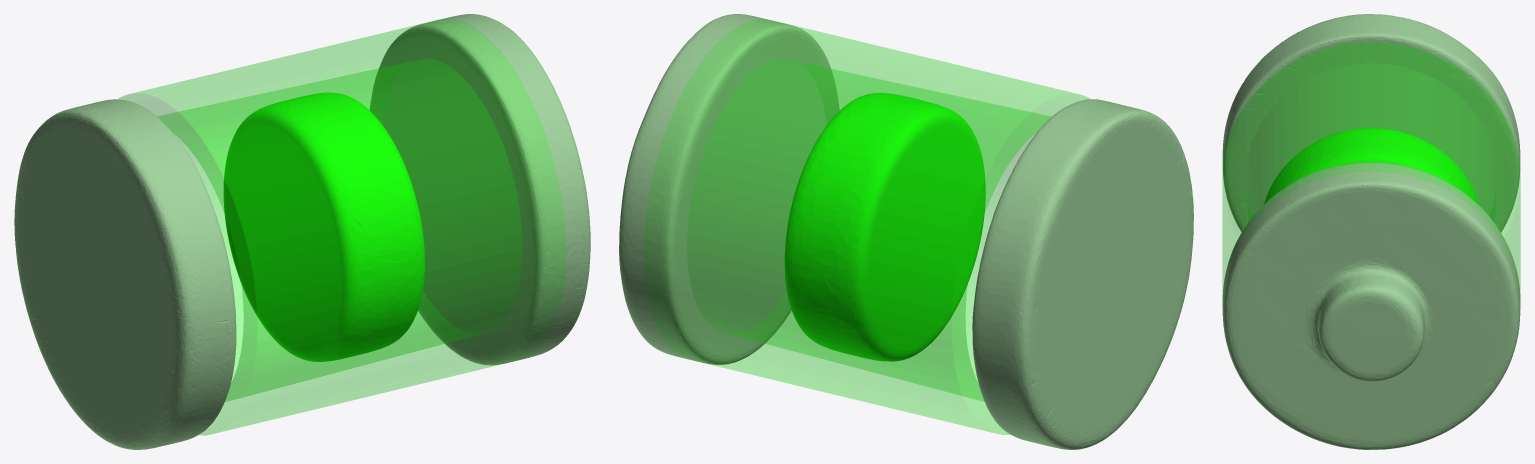
The model's file is battery_full.glb.
3 views of the same model, side by side, from view 1: azimuth 30°, elevation 25°; view 2: azimuth 150°, elevation 25°; view 3: azimuth 270°, elevation 25° (orthographic). The views are drawn at different scales.
Visible parts, largest first — view 1: Corps, Sommets, Tiers bas, Tiers haut, Tiers milieu; view 2: Corps, Sommets, Tiers bas, Tiers haut; view 3: Sommets, Corps, Tiers haut, Tiers bas.
Part boxes in pixels (bbox=[...]): Corps: bbox=[117, 19, 565, 435]; Sommets: bbox=[14, 14, 590, 449]; Tiers bas: bbox=[223, 94, 422, 361]; Tiers haut: bbox=[298, 92, 424, 354]; Tiers milieu: bbox=[298, 99, 405, 347]; Corps: bbox=[644, 19, 1089, 434]; Sommets: bbox=[619, 14, 1193, 449]; Tiers bas: bbox=[787, 97, 985, 361]; Tiers haut: bbox=[784, 93, 916, 353]; Sommets: bbox=[1222, 14, 1520, 449]; Corps: bbox=[1222, 42, 1520, 300]; Tiers haut: bbox=[1269, 128, 1472, 199]; Tiers bas: bbox=[1263, 128, 1479, 204].
Size of the model in its own units: 72657 by 48463 by 48380.
